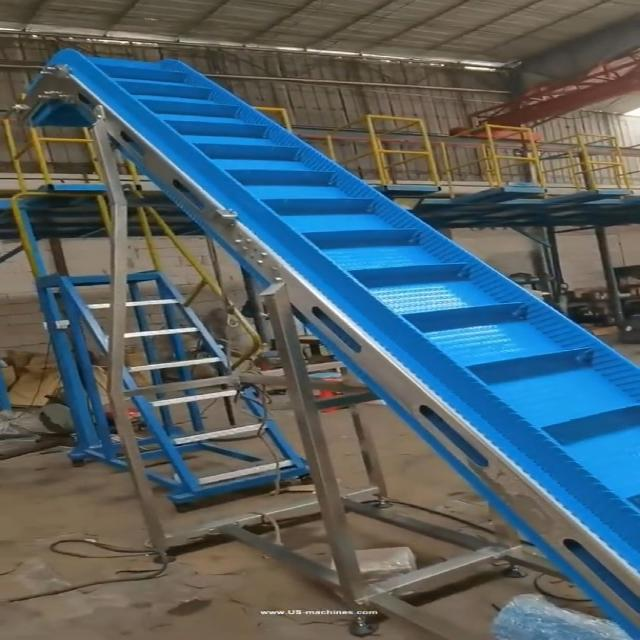Convoyeur: (31, 46, 640, 640)
